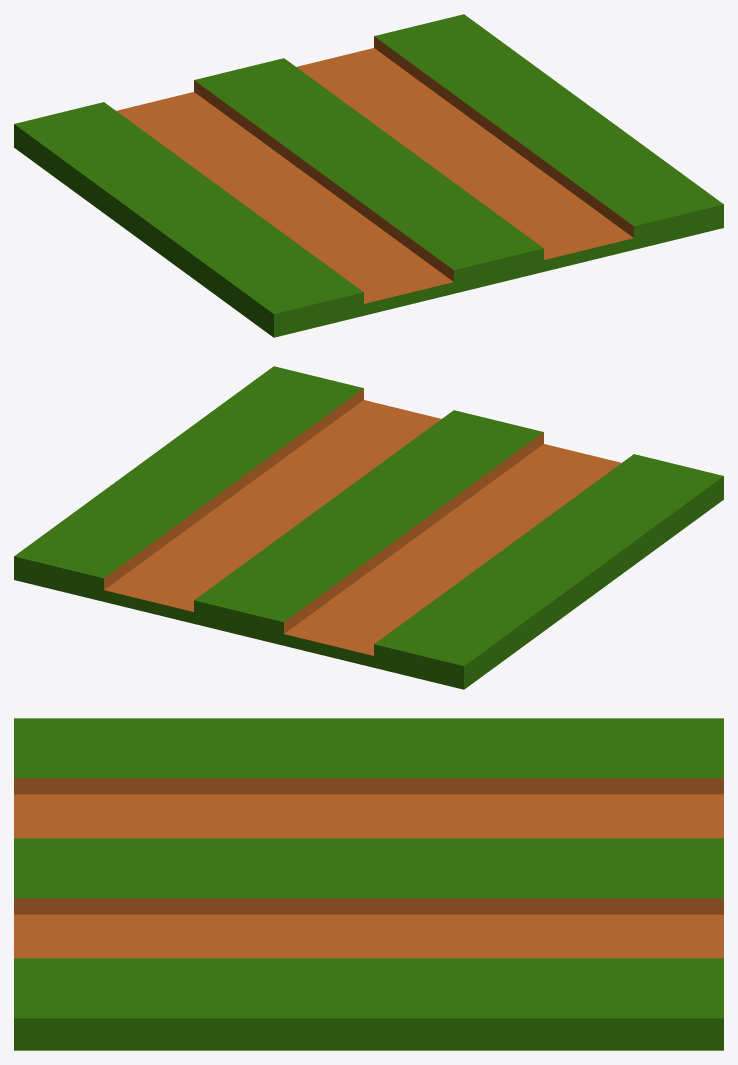
The model's file is Tile_Grass_Road_Straight.fbx.
The picture shows the model from 3 angles, top to bottom: view 1: azimuth 30°, elevation 25°; view 2: azimuth 150°, elevation 25°; view 3: azimuth 270°, elevation 25°; orthographic projection. The views are drawn at different scales.
Visible parts, largest first — view 1: Tile_Grass_Road_Straight; view 2: Tile_Grass_Road_Straight; view 3: Tile_Grass_Road_Straight.
Boxes of the visible parts, x1,y1,x2,y2 form: Tile_Grass_Road_Straight: (14,14,723,337); Tile_Grass_Road_Straight: (14,366,723,689); Tile_Grass_Road_Straight: (14,718,723,1050).
Bounding box in the file's own units: 100 × 5 × 100.
